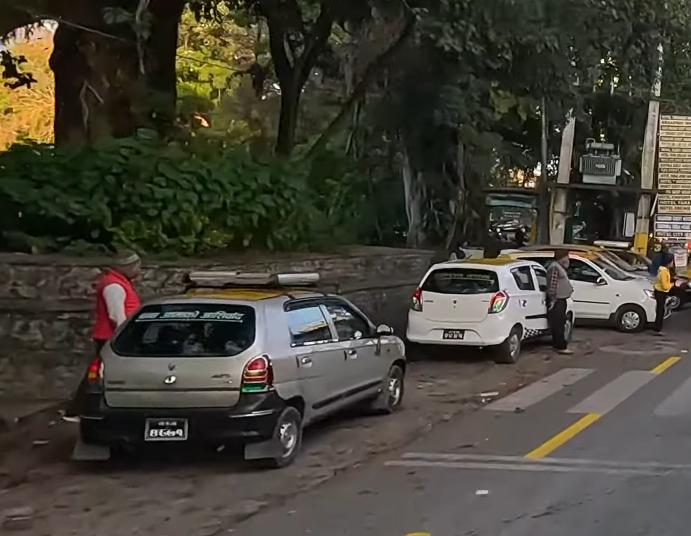taxi: (69, 263, 408, 467), (409, 253, 573, 364), (501, 242, 669, 333)
